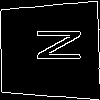N: (25, 26, 82, 64)
